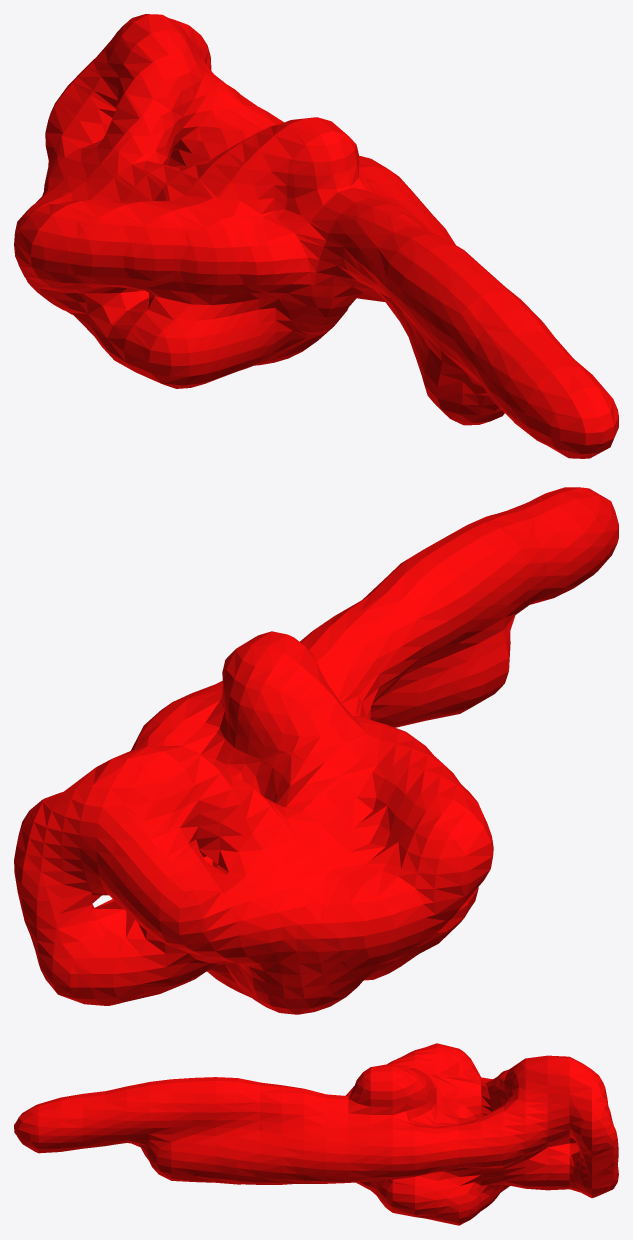
Rendered from atpG_coarse.dae.
3 renders of one model, top to bottom at view 1: azimuth 30°, elevation 25°; view 2: azimuth 150°, elevation 25°; view 3: azimuth 270°, elevation 25°, orthographic. The views are drawn at different scales.
Visible parts, largest first — view 1: atpG; view 2: atpG; view 3: atpG.
Part boxes in pixels (x1,y1,x2,y2): atpG: (14, 14, 618, 458); atpG: (14, 487, 618, 1014); atpG: (14, 1043, 618, 1225).
Size of the model in its own units: 48.43 by 35.07 by 118.
